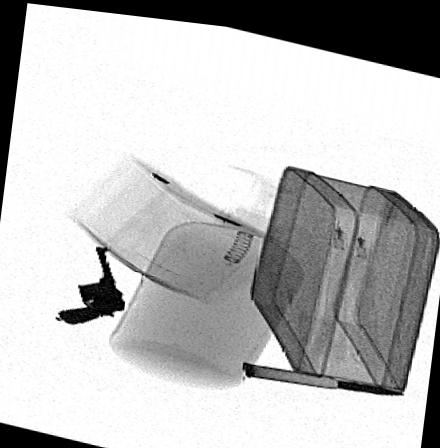Bullet: (241, 355, 401, 386)
Gun: (55, 243, 127, 322)
